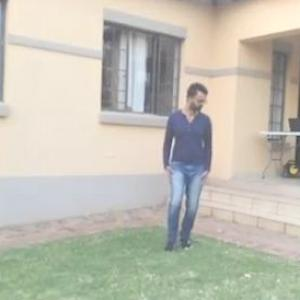follow: (163, 77, 215, 255)
